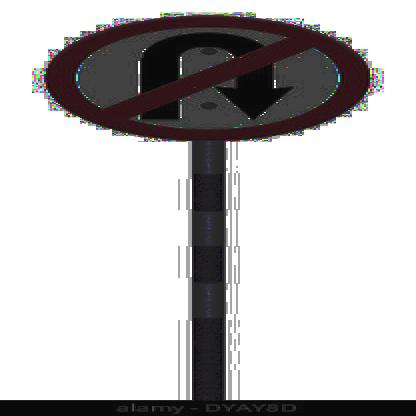No U-turn: (44, 12, 375, 144)
